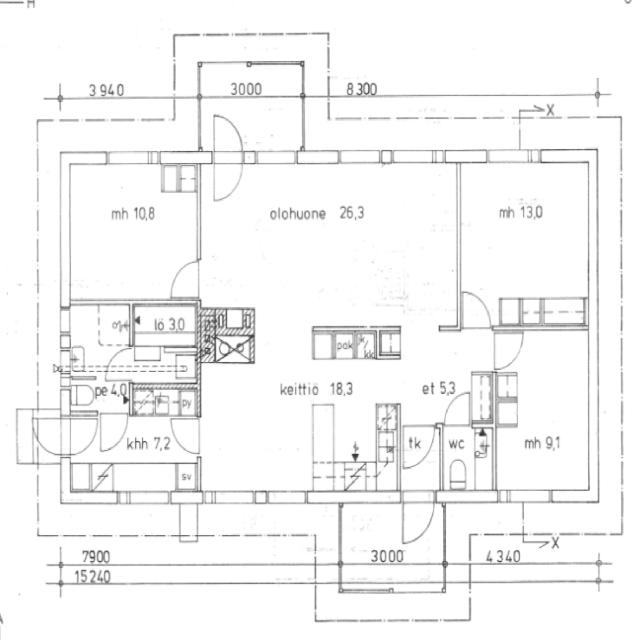door: (58, 409, 178, 482), (63, 306, 134, 378), (207, 110, 247, 204), (32, 410, 102, 461), (396, 484, 439, 550), (399, 421, 438, 473), (167, 252, 205, 302), (458, 284, 492, 331), (491, 327, 526, 371), (442, 386, 474, 431), (169, 414, 203, 456), (98, 412, 131, 454), (104, 344, 134, 380)
window: (336, 145, 392, 169), (104, 147, 163, 169), (252, 143, 300, 168)
zone: (196, 162, 470, 346), (195, 350, 405, 500), (458, 152, 592, 328), (62, 159, 202, 303), (493, 324, 594, 502), (45, 411, 196, 501), (130, 296, 200, 392), (61, 304, 132, 376), (441, 425, 496, 499)
